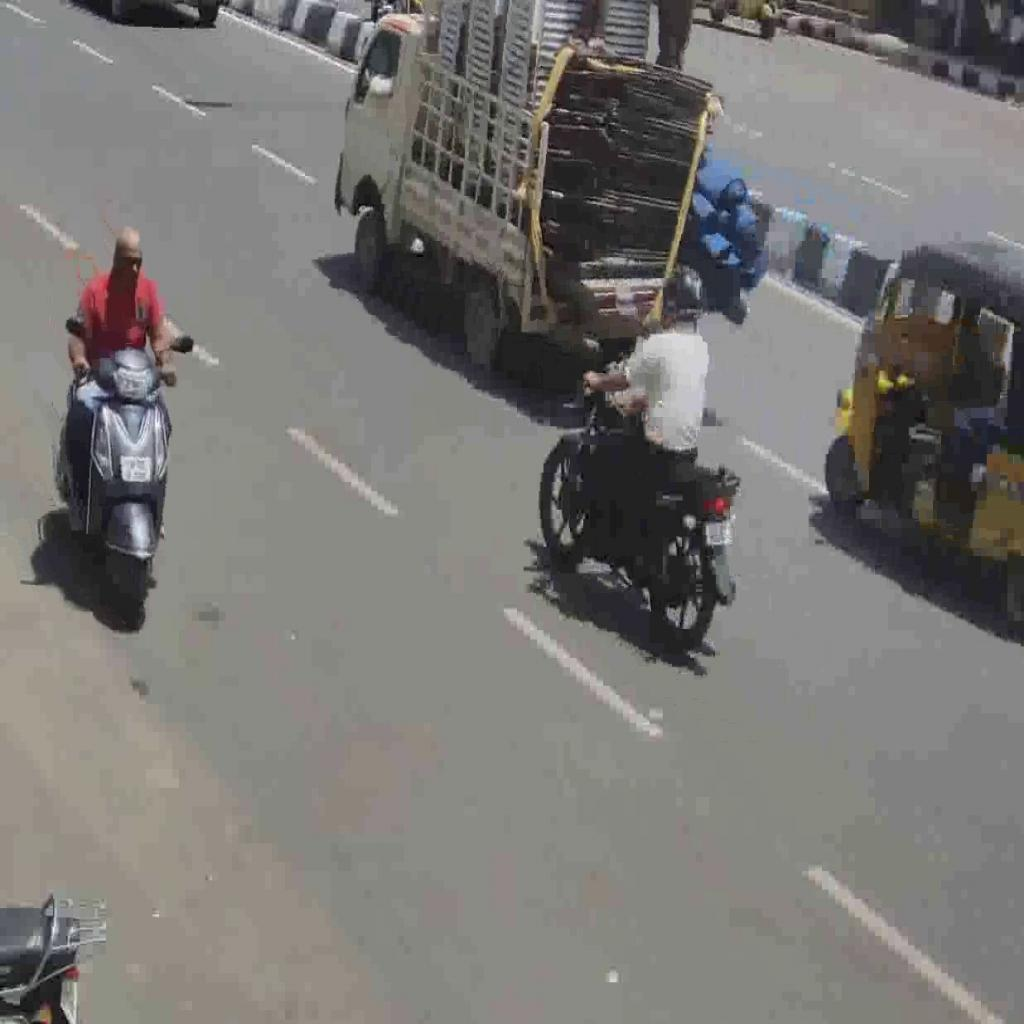helmet: (534, 390, 742, 656), (54, 345, 176, 599)
